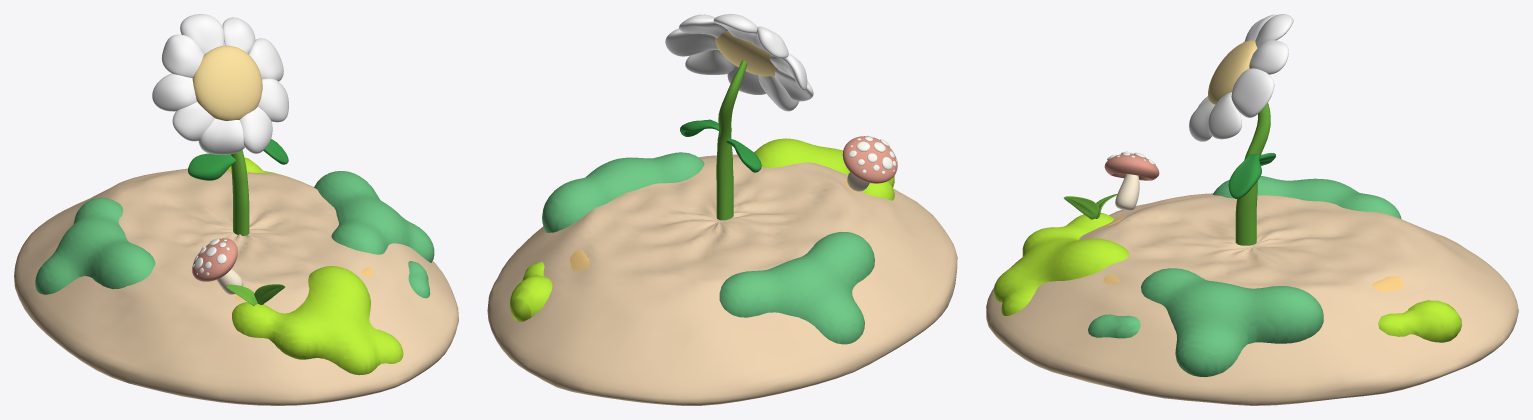
3 views of the same model, side by side, from view 1: azimuth 30°, elevation 25°; view 2: azimuth 150°, elevation 25°; view 3: azimuth 270°, elevation 25° (orthographic). The views are drawn at different scales.
Parts seen in each view (by area): view 1: Cylinder_8_4, Metaball_3_2, Metaball, Metaball_1_2, SunFlower_4, SunFlower_7, SunFlower, SunFlower_6, SunFlower_1, SunFlower_8, SunFlower_12, Circle_004 (+6 smaller); view 2: Cylinder_8_4, Metaball, Metaball_1_2, Metaball_3_2, SunFlower_1, Stone_2, Circle_004, SunFlower_4, SunFlower_11, SunFlower_10, SunFlower_8, SunFlower (+7 smaller); view 3: Cylinder_8_4, Metaball_1_2, Metaball_3_2, Metaball, Stone_2, SunFlower_1, SunFlower_11, SunFlower_4, SunFlower_10, Stone_1, Circle_004, SunFlower_9 (+5 smaller).
Part boxes in pixels (x1,y1,x2,y2): Cylinder_8_4: (14, 168, 458, 405); Metaball_3_2: (232, 266, 403, 375); Metaball: (35, 197, 155, 294); Metaball_1_2: (314, 171, 434, 262); SunFlower_4: (192, 45, 262, 120); SunFlower_7: (161, 34, 203, 77); SunFlower: (198, 118, 244, 154); SunFlower_6: (152, 73, 197, 111); SunFlower_1: (231, 150, 249, 235); SunFlower_8: (180, 14, 224, 54); SunFlower_12: (239, 106, 272, 153); Circle_004: (192, 238, 237, 281); Cylinder_8_4: (487, 154, 957, 405); Metaball: (719, 232, 874, 344); Metaball_1_2: (542, 152, 704, 232); Metaball_3_2: (754, 138, 894, 200); SunFlower_1: (716, 60, 747, 220); Stone_2: (509, 262, 552, 321); Circle_004: (842, 136, 897, 183); SunFlower_4: (715, 31, 778, 76); SunFlower_11: (665, 28, 718, 56); SunFlower_10: (685, 50, 735, 74); SunFlower_8: (713, 14, 757, 41); SunFlower: (758, 75, 799, 111); Cylinder_8_4: (986, 193, 1518, 405); Metaball_1_2: (1141, 268, 1323, 376); Metaball_3_2: (993, 213, 1129, 315); Metaball: (1212, 176, 1401, 218); Stone_2: (1378, 300, 1461, 342); SunFlower_1: (1235, 103, 1270, 245); SunFlower_11: (1231, 68, 1274, 117); SunFlower_4: (1208, 40, 1257, 104); SunFlower_10: (1208, 92, 1241, 139); Stone_1: (1088, 314, 1140, 338); Circle_004: (1104, 153, 1159, 180); SunFlower_9: (1249, 40, 1288, 74).
Size of the model in its own units: 575 by 436 by 721.
